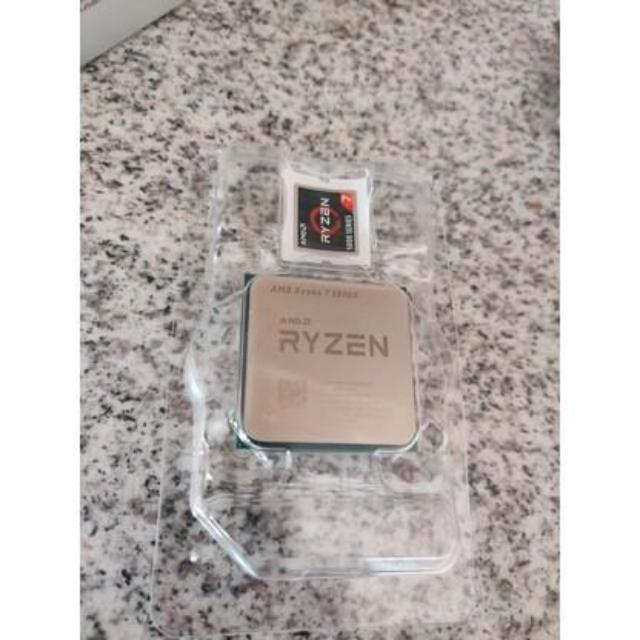CPU: (244, 276, 419, 452)
